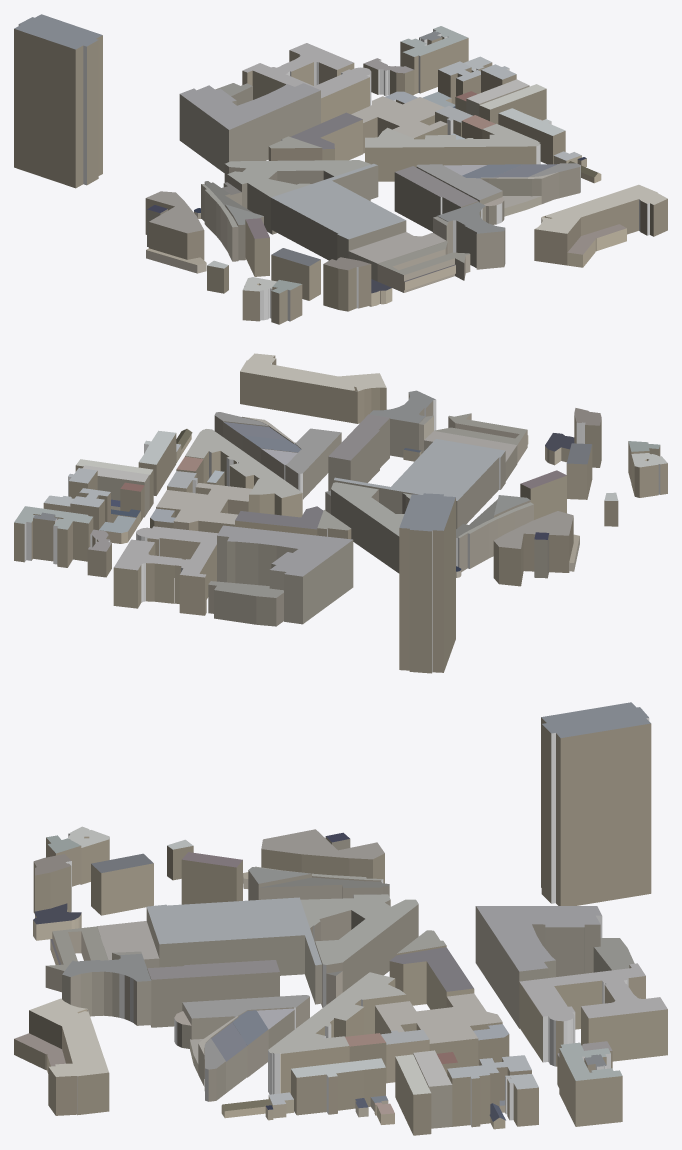
The picture shows the model from 3 angles, top to bottom: view 1: azimuth 30°, elevation 25°; view 2: azimuth 150°, elevation 25°; view 3: azimuth 270°, elevation 25°; orthographic projection. The views are drawn at different scales.
Parts seen in each view (by area): view 1: tuile; view 2: tuile; view 3: tuile.
Part boxes in pixels (x1,y1,x2,y2): tuile: (14, 14, 667, 324); tuile: (14, 353, 667, 673); tuile: (14, 702, 667, 1135).
Size of the model in its own units: 270 by 80.79 by 281.
